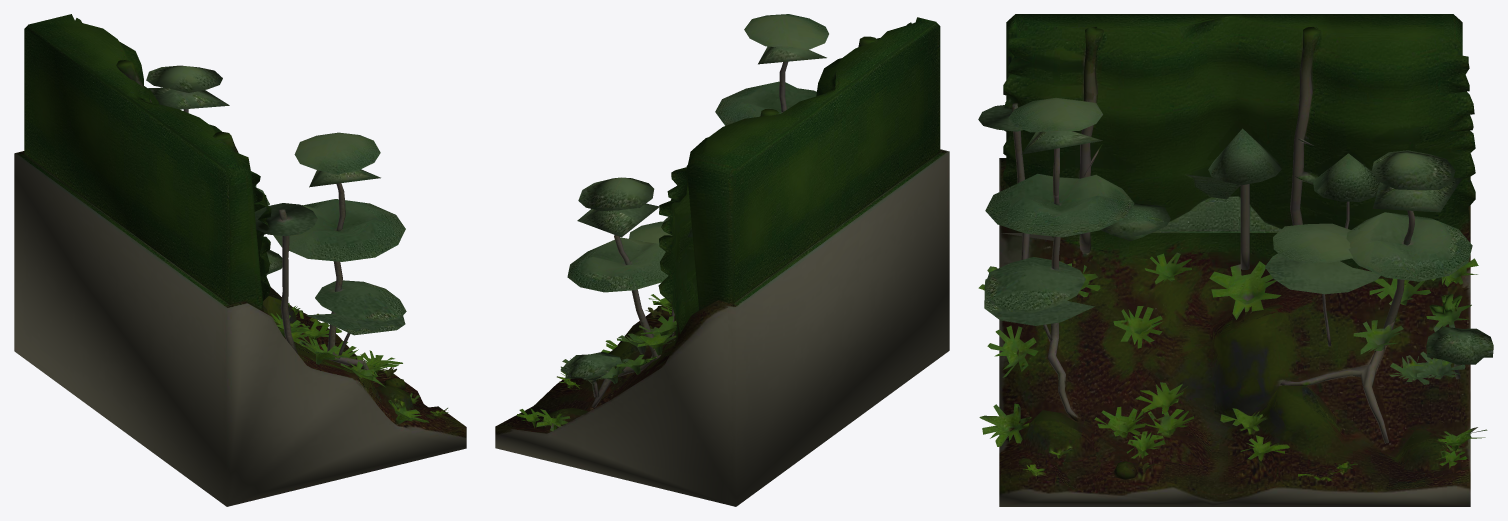
File: japanese_forest_roadside_slope.glb
3 views of the same model, side by side, from view 1: azimuth 30°, elevation 25°; view 2: azimuth 150°, elevation 25°; view 3: azimuth 270°, elevation 25° (orthographic). The views are drawn at different scales.
Parts seen in each view (by area): view 1: tripo_node_49682c7b-8e39-4d60-a2a3-181a6a3570c9; view 2: tripo_node_49682c7b-8e39-4d60-a2a3-181a6a3570c9; view 3: tripo_node_49682c7b-8e39-4d60-a2a3-181a6a3570c9.
Part boxes in pixels (x1,y1,x2,y2): tripo_node_49682c7b-8e39-4d60-a2a3-181a6a3570c9: [14, 14, 466, 506]; tripo_node_49682c7b-8e39-4d60-a2a3-181a6a3570c9: [495, 14, 949, 506]; tripo_node_49682c7b-8e39-4d60-a2a3-181a6a3570c9: [978, 14, 1493, 506].
Size of the model in its own units: 0.6035 by 0.7832 by 0.998.
1 material, 1 textured.
